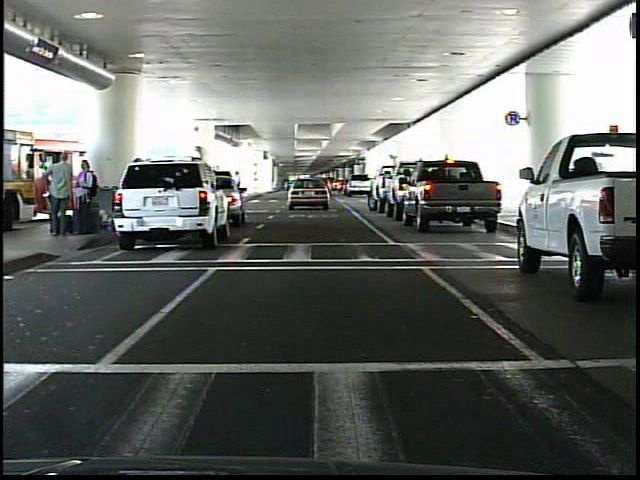person: (42, 152, 73, 238), (72, 155, 100, 238)
